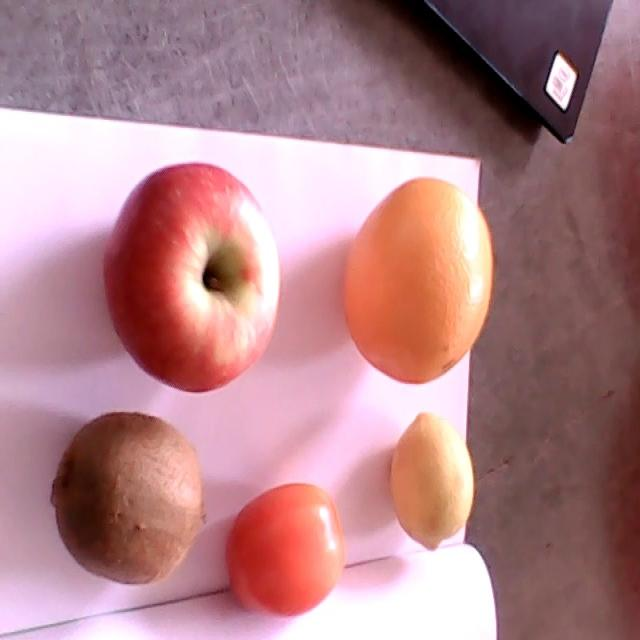apple: (100, 162, 282, 394)
kiwi: (51, 413, 209, 585)
lemon: (389, 412, 476, 551)
orange: (345, 176, 494, 383)
tomato: (225, 484, 347, 617)
